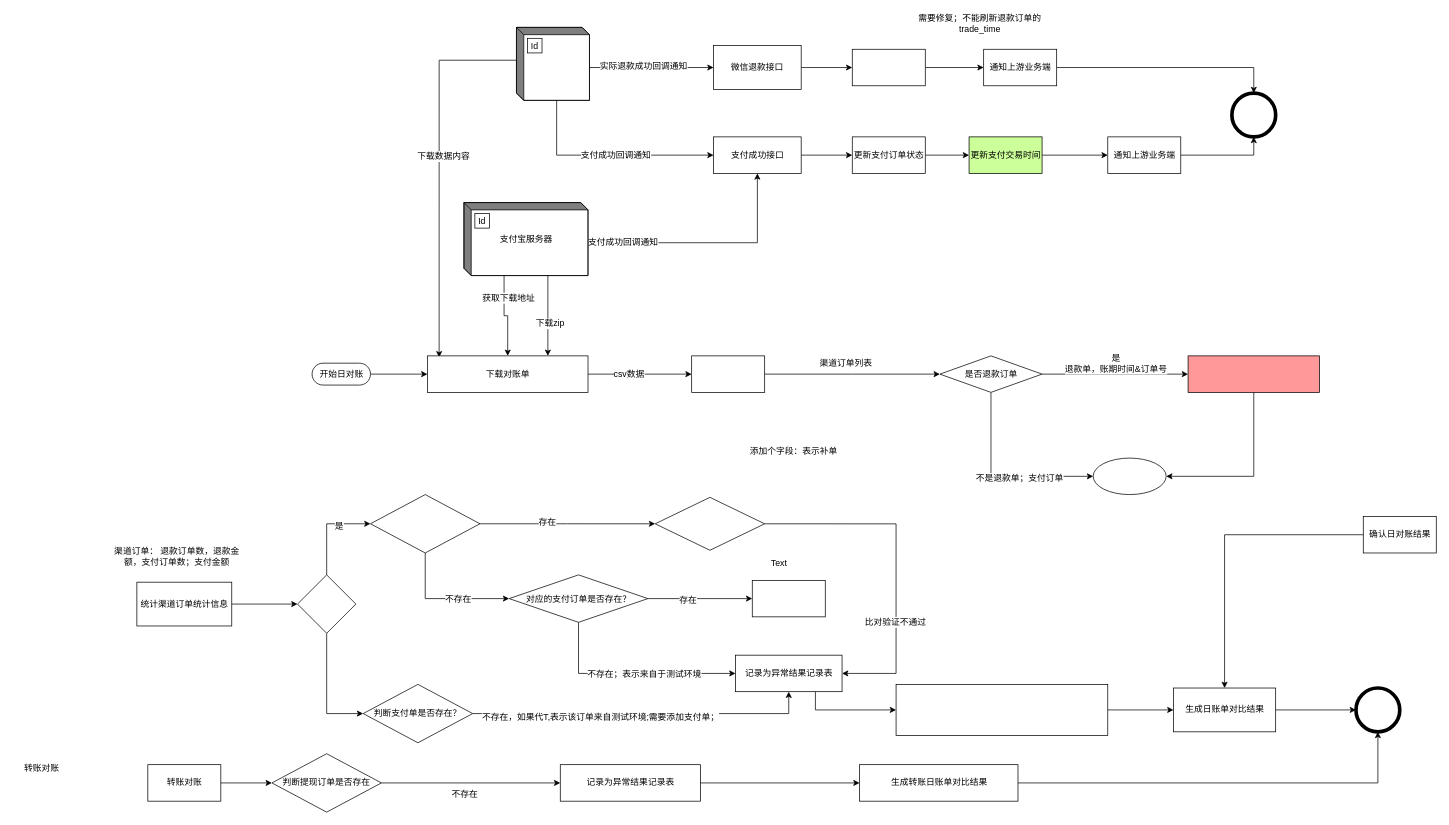
Some shapes in this 1449 by 825 pixel diagram are drawn without their labels. Here are the shapes that lost their labels. From the top down, the centre of each, then its label:
At pixel 552 63: "微信服务器".
At pixel 888 67: "仅仅刷新退款 订单状态".
At pixel 728 373: "分析CSV格式文件".
At pixel 1253 373: "刷新退款单trade_time为 账期时间".
At pixel 1129 476: "对账流程".
At pixel 425 523: "判断退款单是否存在？".
At pixel 709 523: "验证金额和状态&渠道？".
At pixel 326 603: "是否退款单".
At pixel 788 598: "生成对应退款单".
At pixel 1001 709: "按trade_time，order_state进行订单统计，生成结果".
